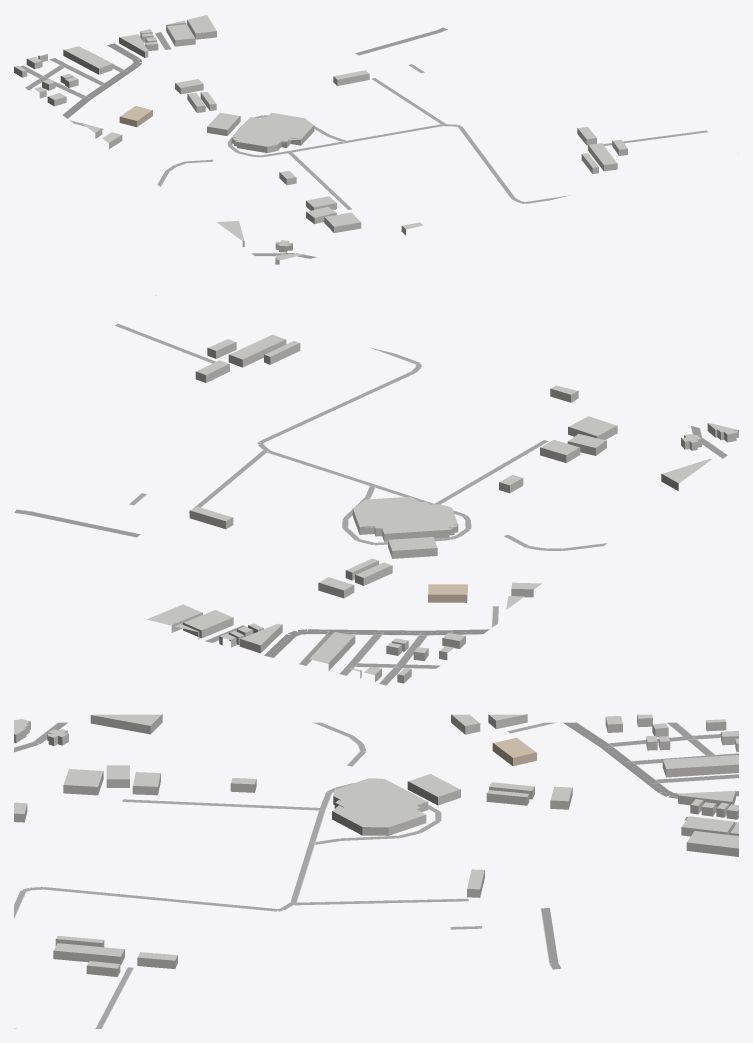
File: chunk_3_-2.glb
The picture shows the model from 3 angles, top to bottom: view 1: azimuth 30°, elevation 25°; view 2: azimuth 150°, elevation 25°; view 3: azimuth 270°, elevation 25°; orthographic projection. The views are drawn at different scales.
Visible parts, largest first — view 1: buildings_0816_0808_0788, roads_0467_0467_0467, roads_04_04_04, roads_kerbs_markings, roads_0333_0333_0333, buildings_0753_0627_0502; view 2: buildings_0816_0808_0788, roads_0467_0467_0467, roads_04_04_04, roads_kerbs_markings, roads_0333_0333_0333, buildings_0753_0627_0502; view 3: buildings_0816_0808_0788, roads_0467_0467_0467, roads_04_04_04, roads_kerbs_markings, roads_0333_0333_0333, buildings_0753_0627_0502.
Part boxes in pixels (<box>): buildings_0816_0808_0788: <box>14,15,627,264</box>; roads_0467_0467_0467: <box>70,64,708,209</box>; roads_04_04_04: <box>20,27,447,258</box>; roads_kerbs_markings: <box>24,29,705,258</box>; roads_0333_0333_0333: <box>63,43,141,118</box>; buildings_0753_0627_0502: <box>119,106,152,127</box>; buildings_0816_0808_0788: <box>146,334,738,683</box>; roads_0467_0467_0467: <box>115,295,606,627</box>; roads_04_04_04: <box>14,426,727,685</box>; roads_kerbs_markings: <box>16,325,727,683</box>; roads_0333_0333_0333: <box>264,629,489,657</box>; buildings_0753_0627_0502: <box>428,584,467,602</box>; buildings_0816_0808_0788: <box>14,714,738,976</box>; roads_0467_0467_0467: <box>14,722,555,1028</box>; roads_04_04_04: <box>14,722,738,969</box>; roads_kerbs_markings: <box>14,722,738,1028</box>; roads_0333_0333_0333: <box>563,722,738,798</box>; buildings_0753_0627_0502: <box>492,737,536,766</box>.
Bounding box in the file's own units: 500 × 6.45 × 500.
